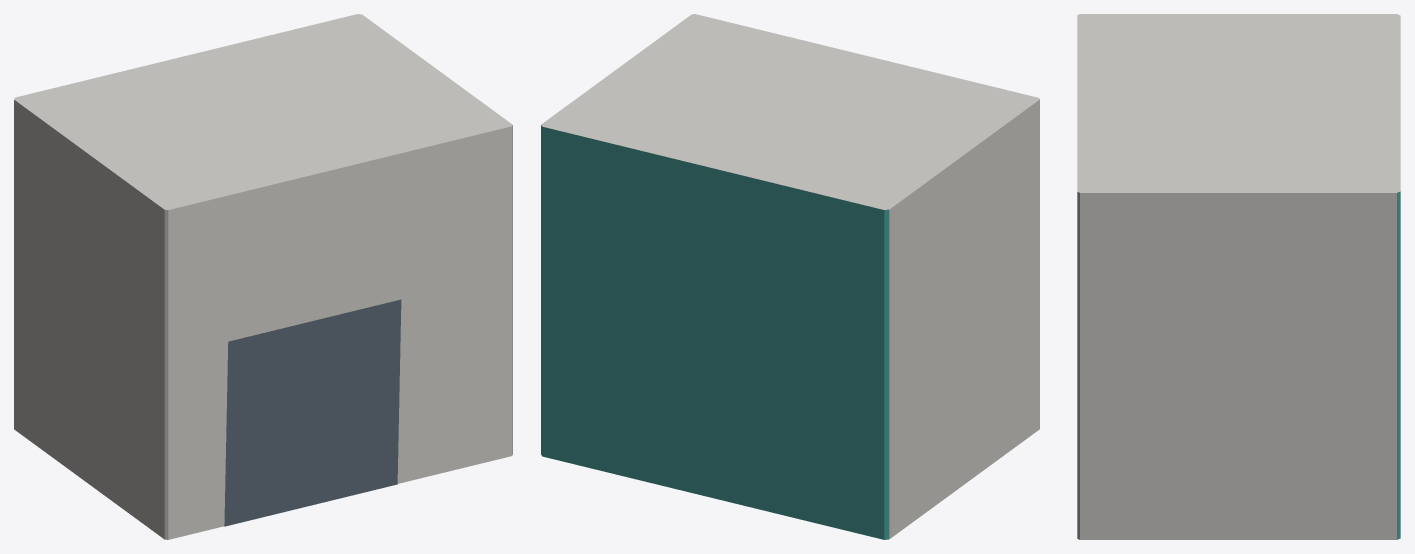
The model's file is loin-etape-1.glb.
3 renders of one model, left to right at view 1: azimuth 30°, elevation 25°; view 2: azimuth 150°, elevation 25°; view 3: azimuth 270°, elevation 25°, orthographic. The views are drawn at different scales.
Parts seen in each view (by area): view 1: loin; view 2: loin; view 3: loin.
Part boxes in pixels (x1,y1,x2,y2): loin: (14, 14, 512, 539); loin: (541, 14, 1039, 539); loin: (1077, 14, 1400, 539).
Bounding box in the file's own units: 0.6457 × 0.5844 × 0.5071.
